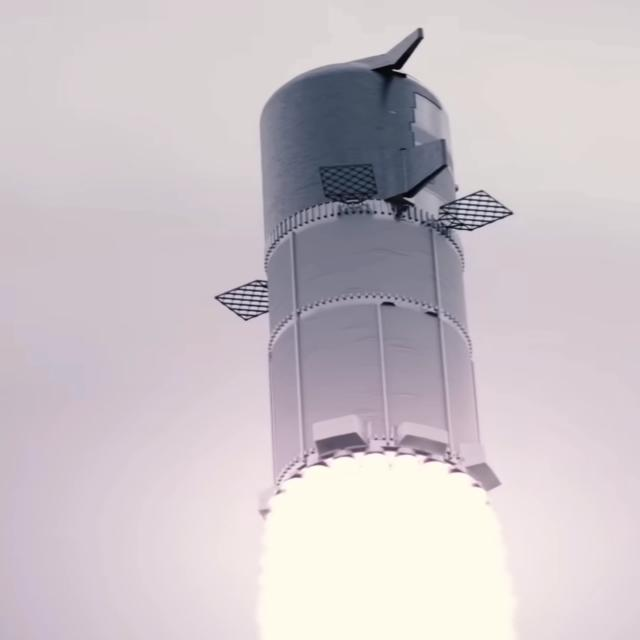Missile: (261, 14, 481, 495)
